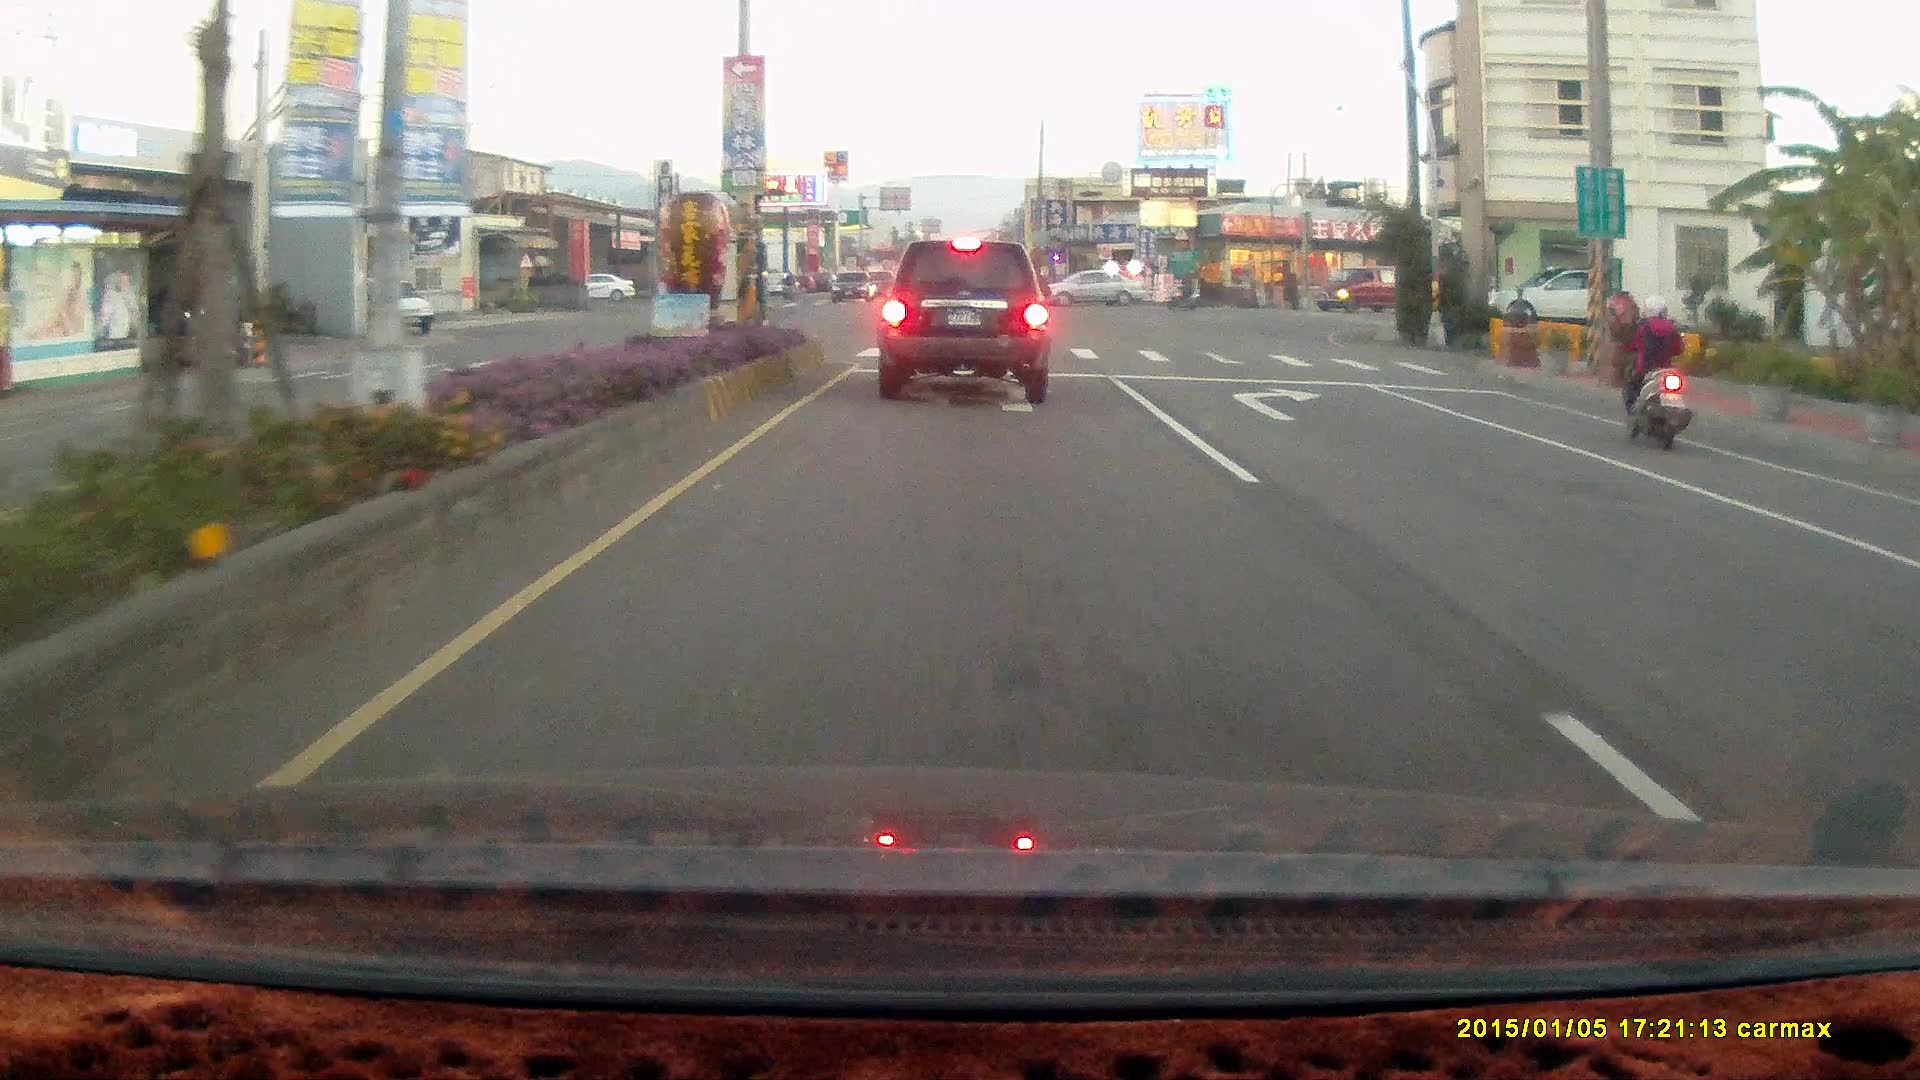rider: (1616, 291, 1693, 454), (1167, 271, 1202, 310)
vehicle: (876, 238, 1053, 403), (1487, 264, 1635, 330), (1896, 493, 1920, 836), (1493, 266, 1606, 328), (1883, 528, 1920, 690), (356, 274, 438, 337), (1313, 265, 1415, 312), (1037, 269, 1148, 310), (1037, 265, 1147, 304)
